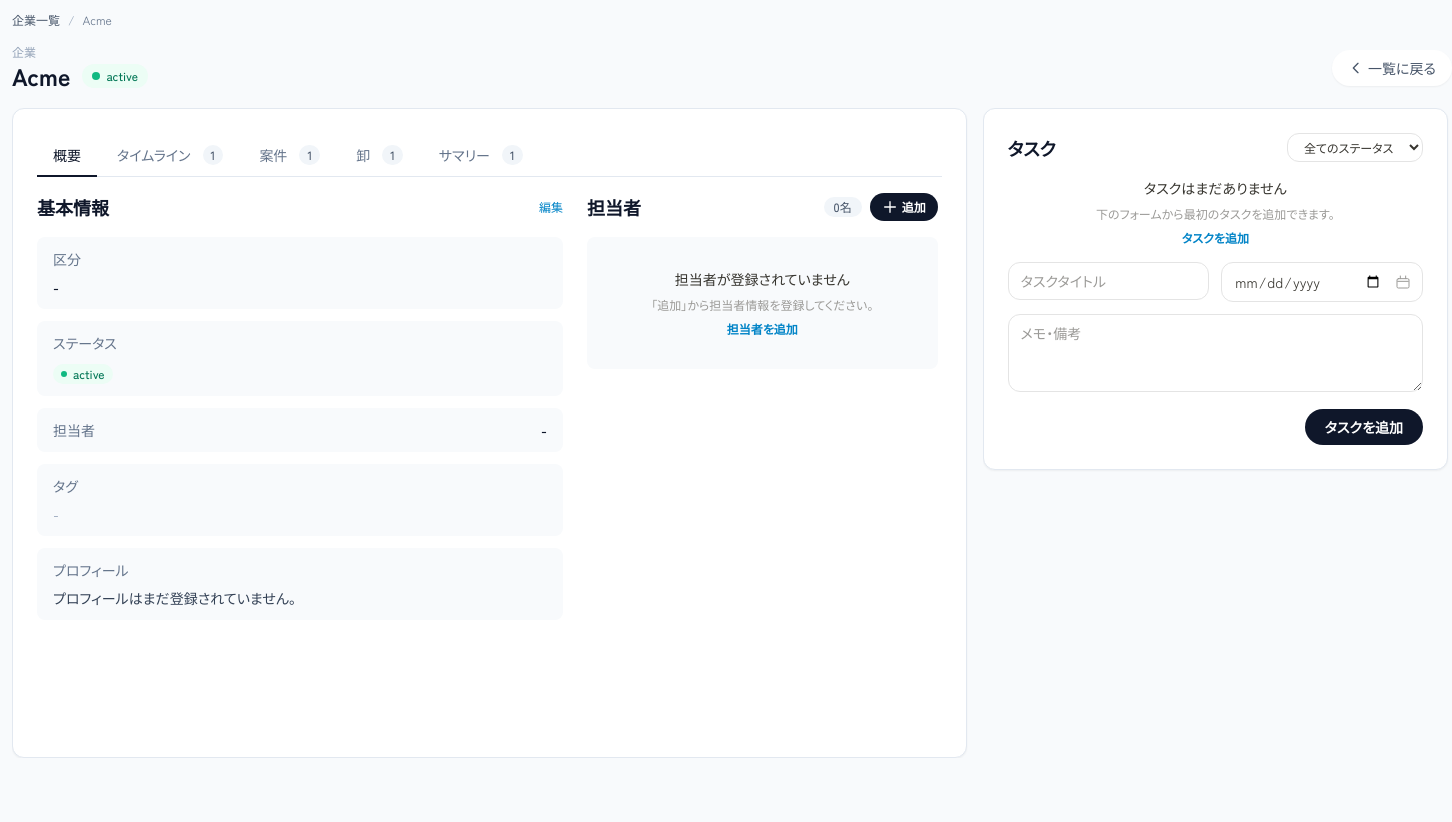
企業詳細ページ › 案件・卸・サマリータブを切り替えて各データを表示できる
Check: the heading "Acme" is shown, box [12,60,70,92]
Step 1. Click the button "案件 1" → (290, 155), box [243,133,336,177]
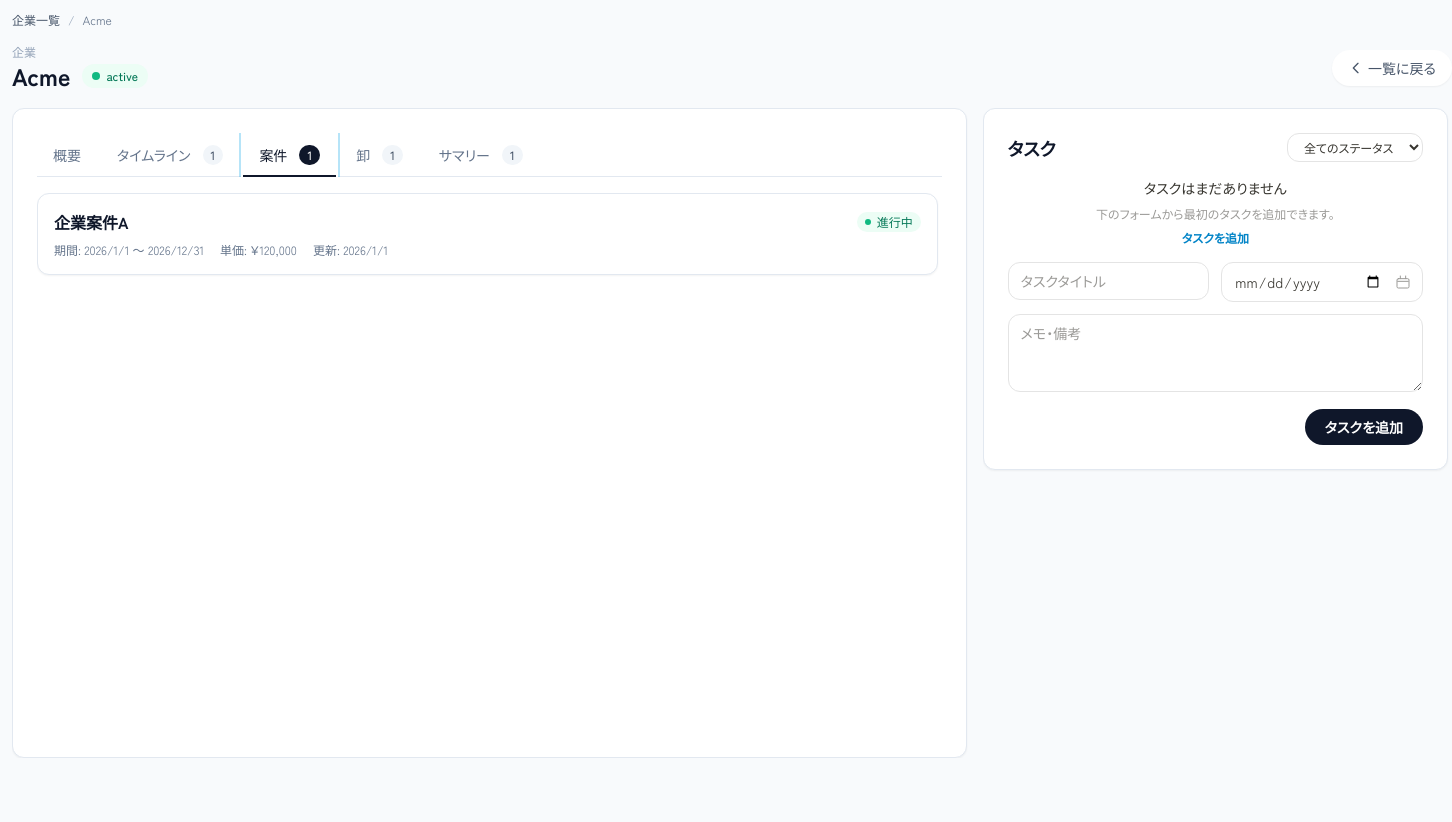
Check: the link "企業案件A" is shown, box [54,210,128,234]
Step 2. Click the button "卸 1" → (380, 155), box [340,133,419,177]
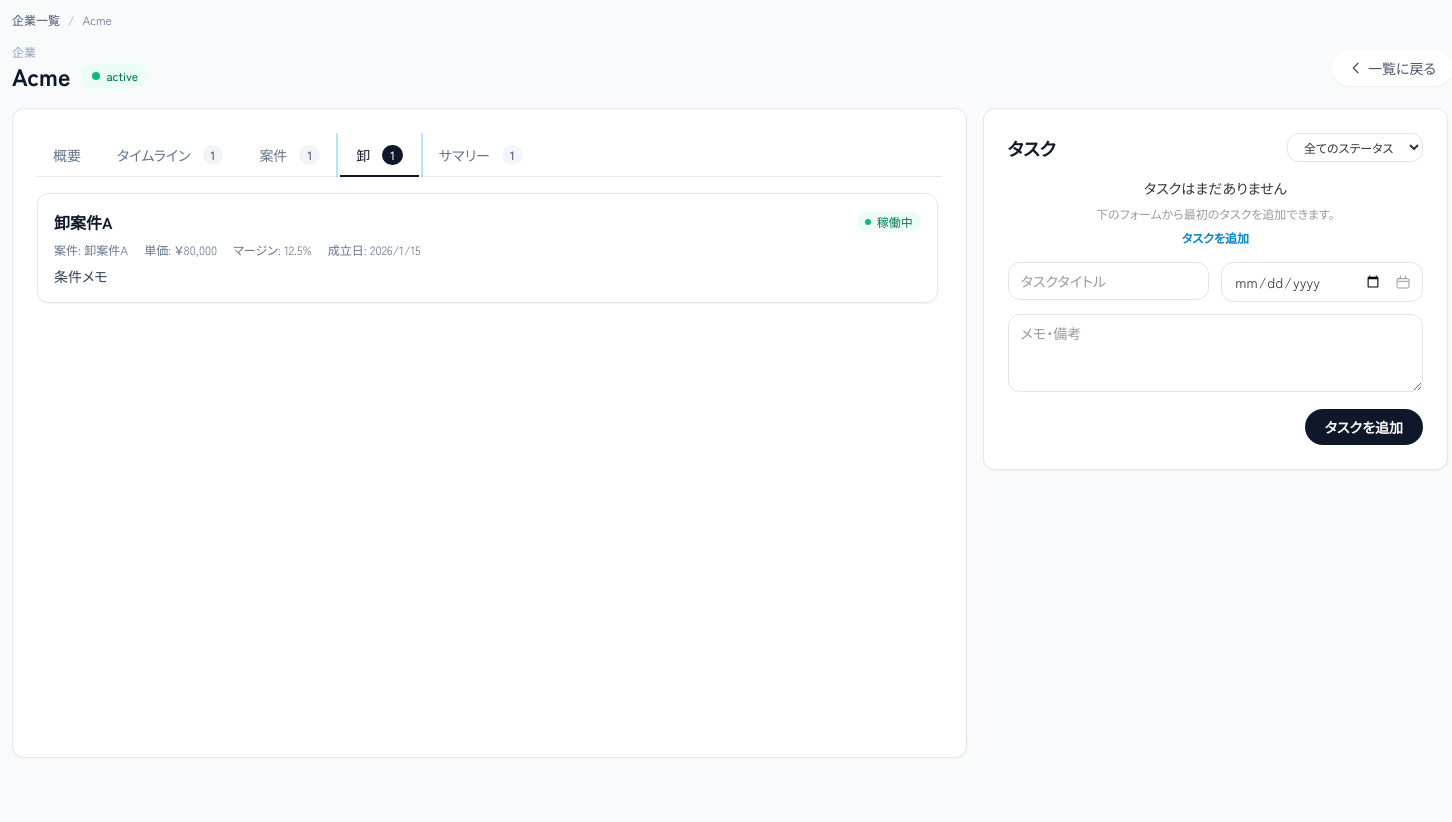
Check: the link "卸案件A" is shown, box [54,210,112,234]
Step 3. Click the button "サマリー 1" → (481, 155), box [423,133,539,177]
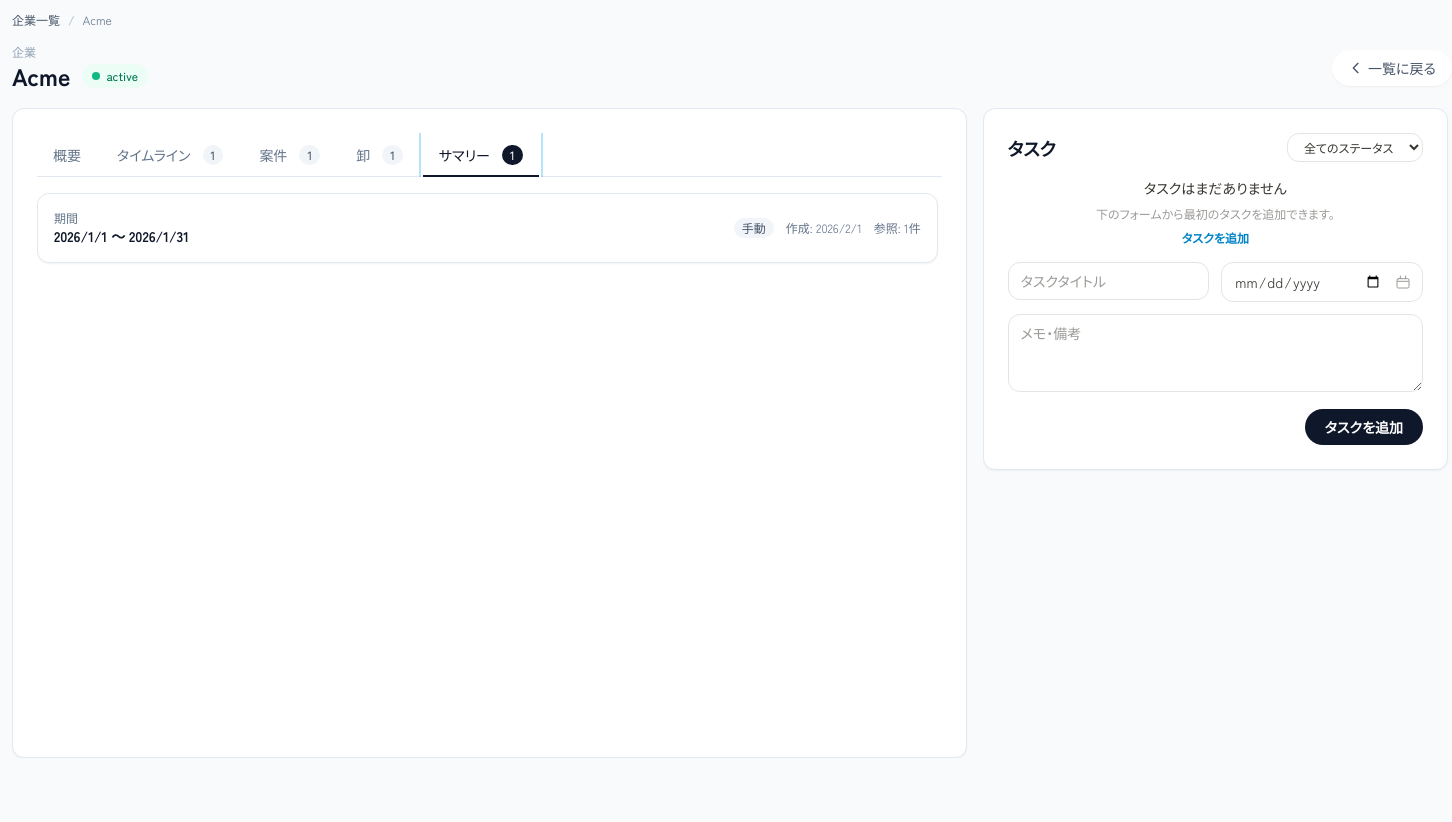
Check: the text "参照: 1件" is shown, box [874,220,921,236]
